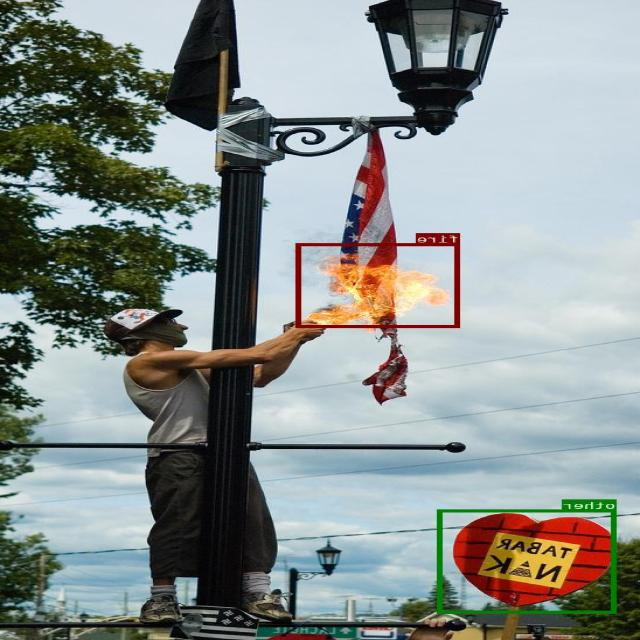fire: (297, 243, 461, 327)
other: (438, 509, 618, 613)
